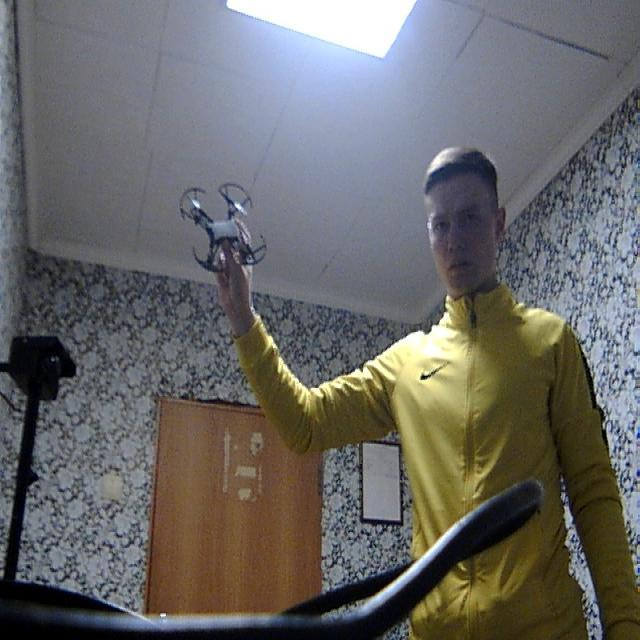drone: (174, 155, 266, 278)
